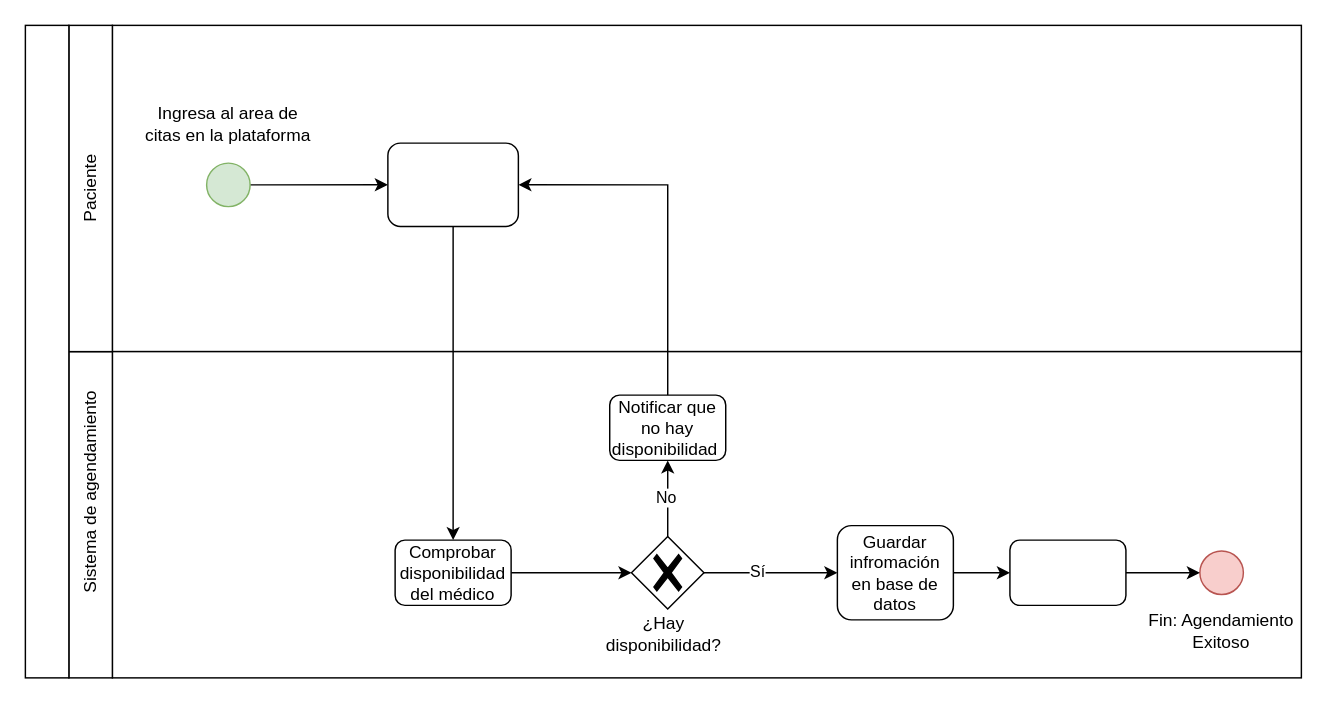
This 1334x703 diagram has some shape labels left out. The shapes that lost their labels are listed below. From the top down, each one's centre as x and y in pixels, then its label:
At [452,184]: "Seleccion de la especialidad y la fecha".
At [46,351]: "Agendamiento de Citas Médicas".
At [1067,572]: "Notificar agendamiento exitoso".
